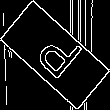P_SW: (26, 24, 84, 86)
